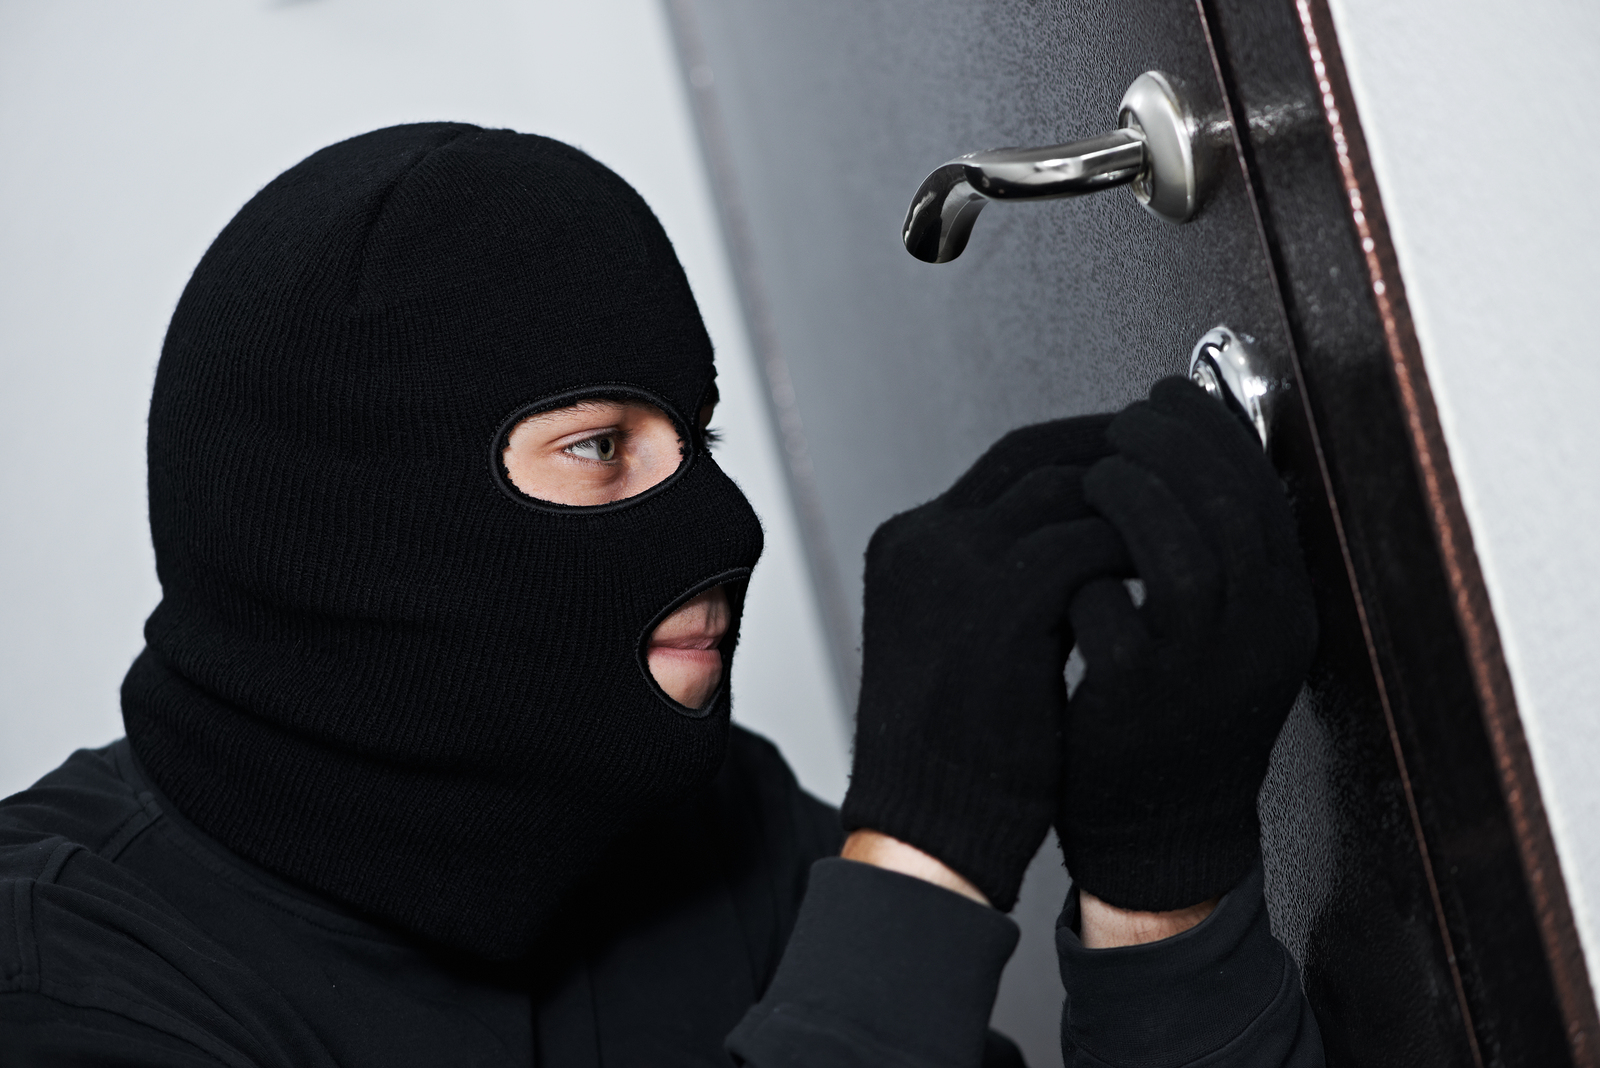thief: (122, 108, 1331, 935)
